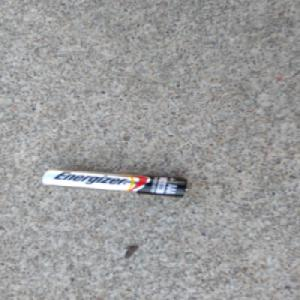Battery: (38, 166, 192, 198)
